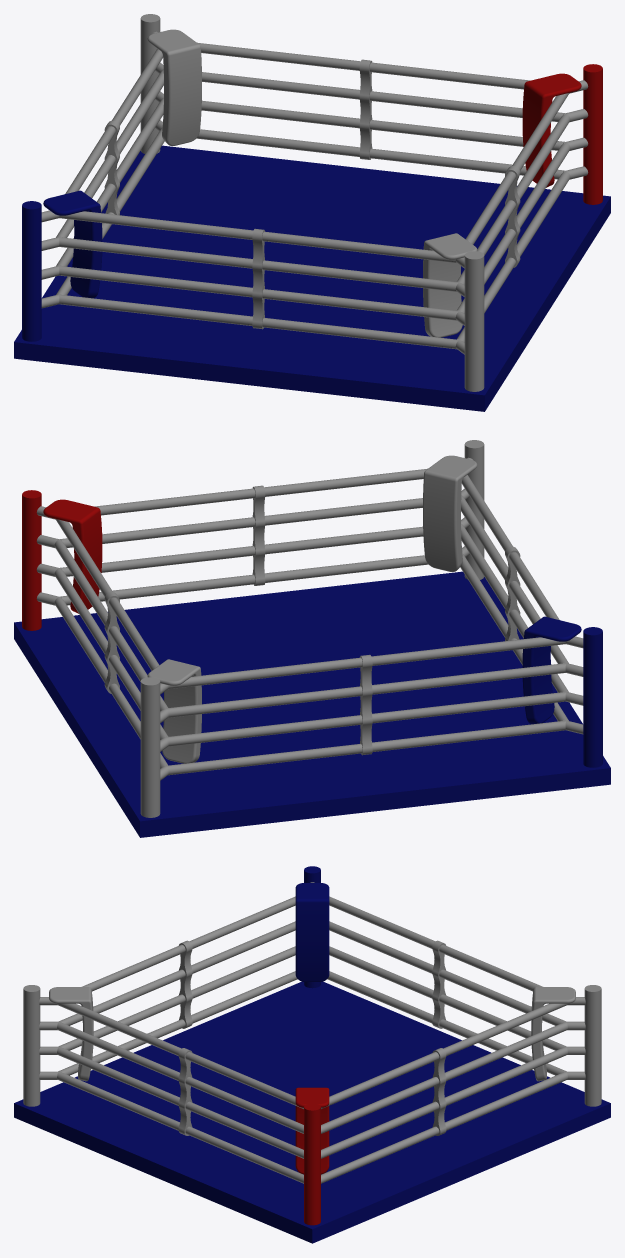
The model's file is boxingring.obj.
3 renders of one model, top to bottom at view 1: azimuth 30°, elevation 25°; view 2: azimuth 150°, elevation 25°; view 3: azimuth 270°, elevation 25°, orthographic. The views are drawn at different scales.
Parts seen in each view (by area): view 1: boxing_ring_v11; view 2: boxing_ring_v11; view 3: boxing_ring_v11.
Boxes of the visible parts, x1=… form: boxing_ring_v11: x1=14, y1=14, x2=610, y2=411; boxing_ring_v11: x1=14, y1=440, x2=610, y2=837; boxing_ring_v11: x1=14, y1=866, x2=610, y2=1243.
Bounding box in the file's own units: 7.01 × 1.67 × 7.01.
